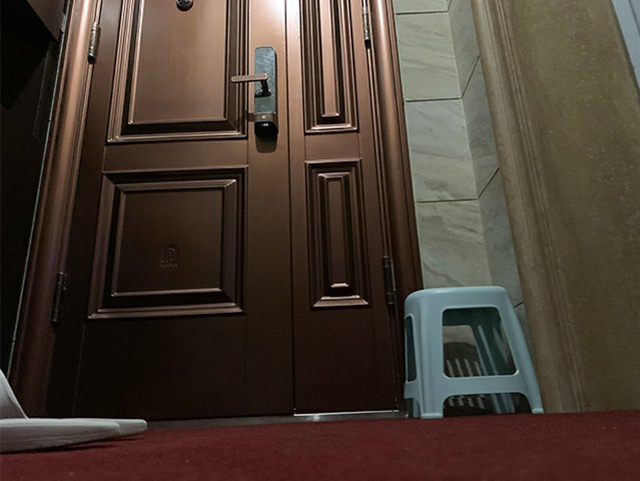carpet: (1, 408, 639, 481)
slippers: (1, 368, 148, 452)
stool: (401, 284, 545, 419)
